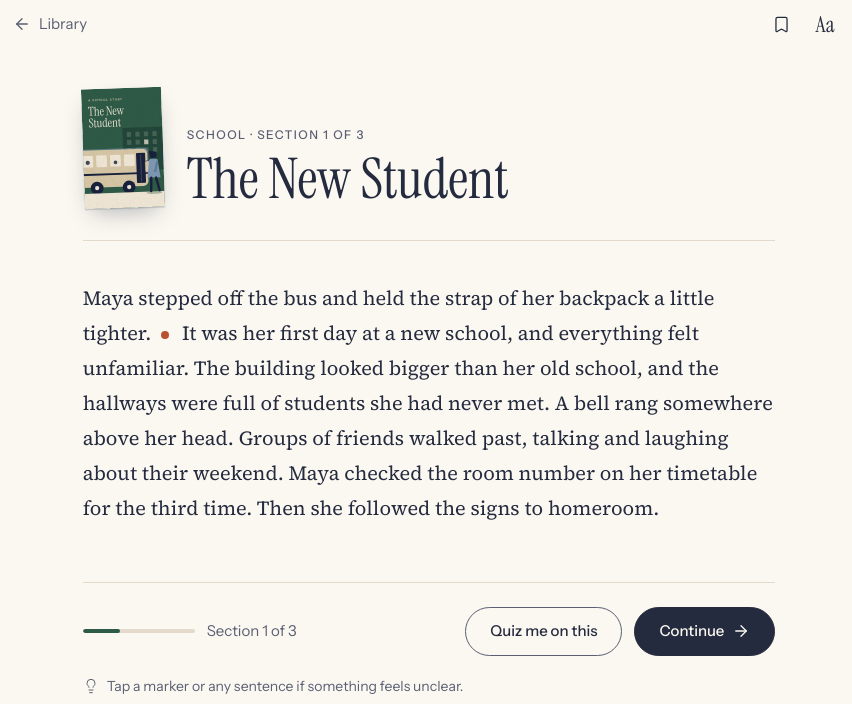
Scenario: reader › selects a sentence and offers "Help me with this"
Click the button with aria-label "Select sentence 2" at {"x": 440, "y": 333}, box [83,319,699,382]
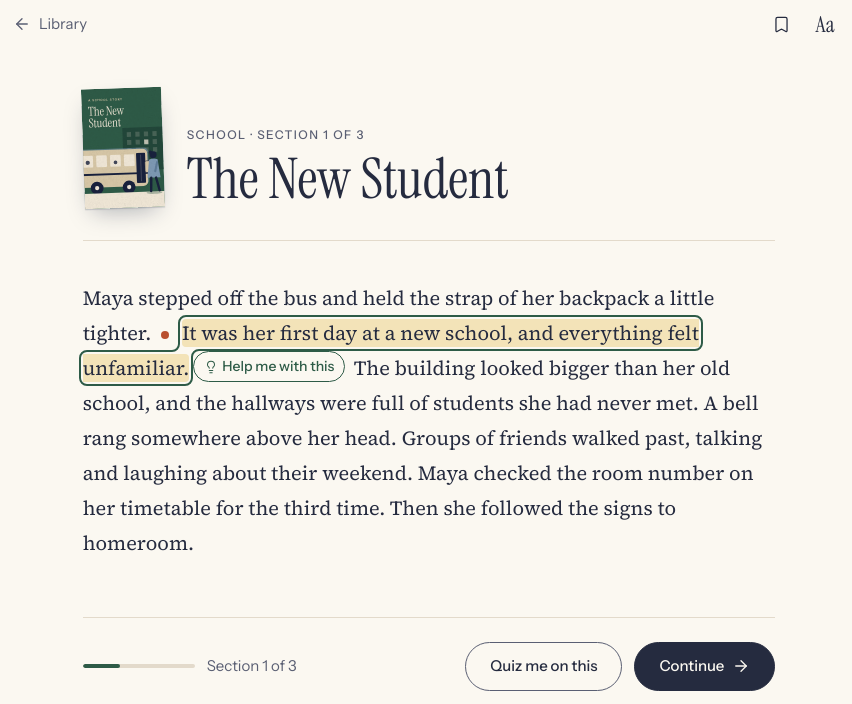
Now the button "Help me with this" is shown, box [193,351,345,382]
